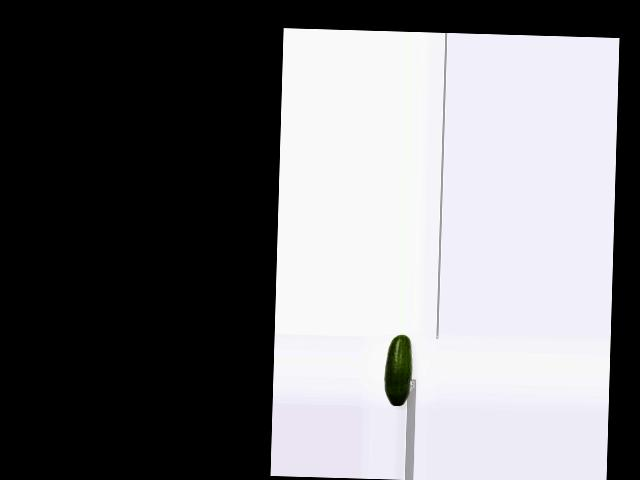cucumber: (383, 333, 413, 407)
